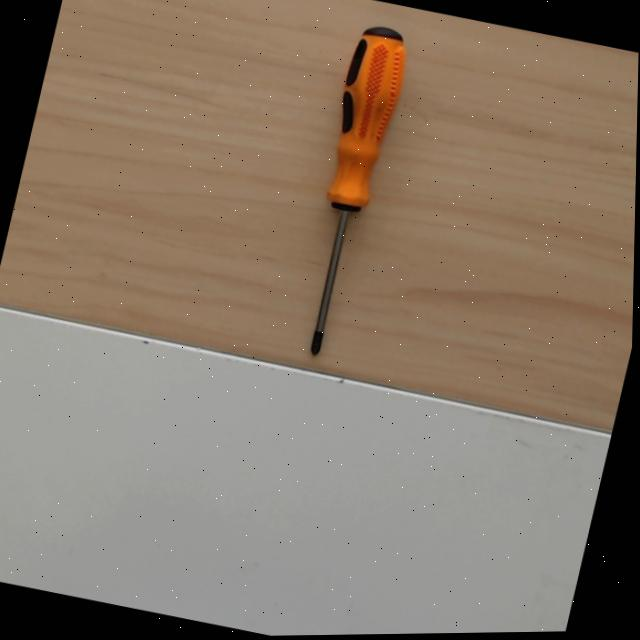Obeng-Besar: (284, 21, 411, 360)
